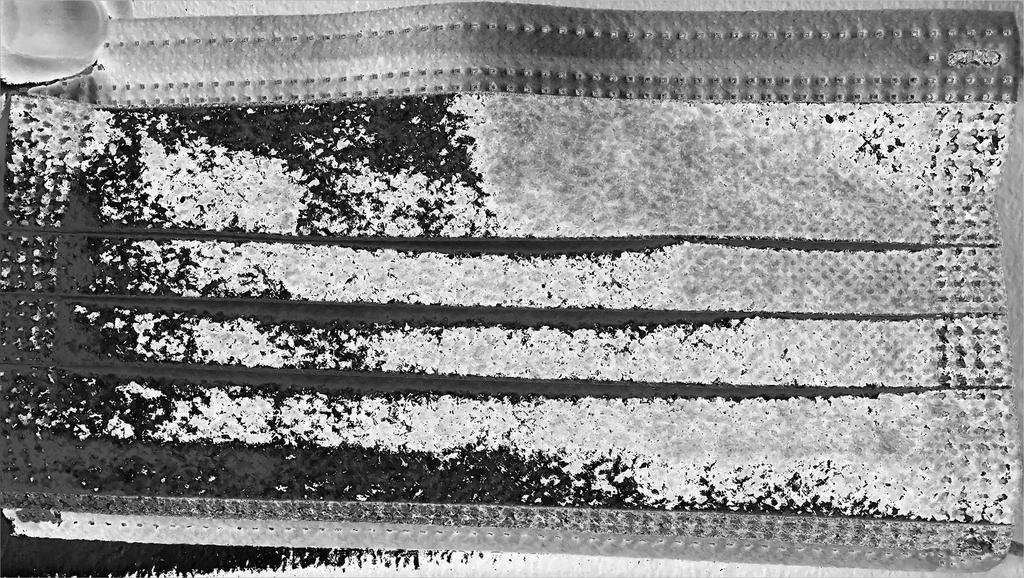High GSM: (3, 77, 1022, 536)
